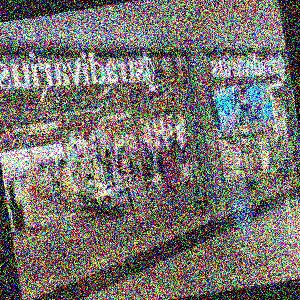stradivarius: (9, 61, 300, 110), (82, 78, 239, 117)
